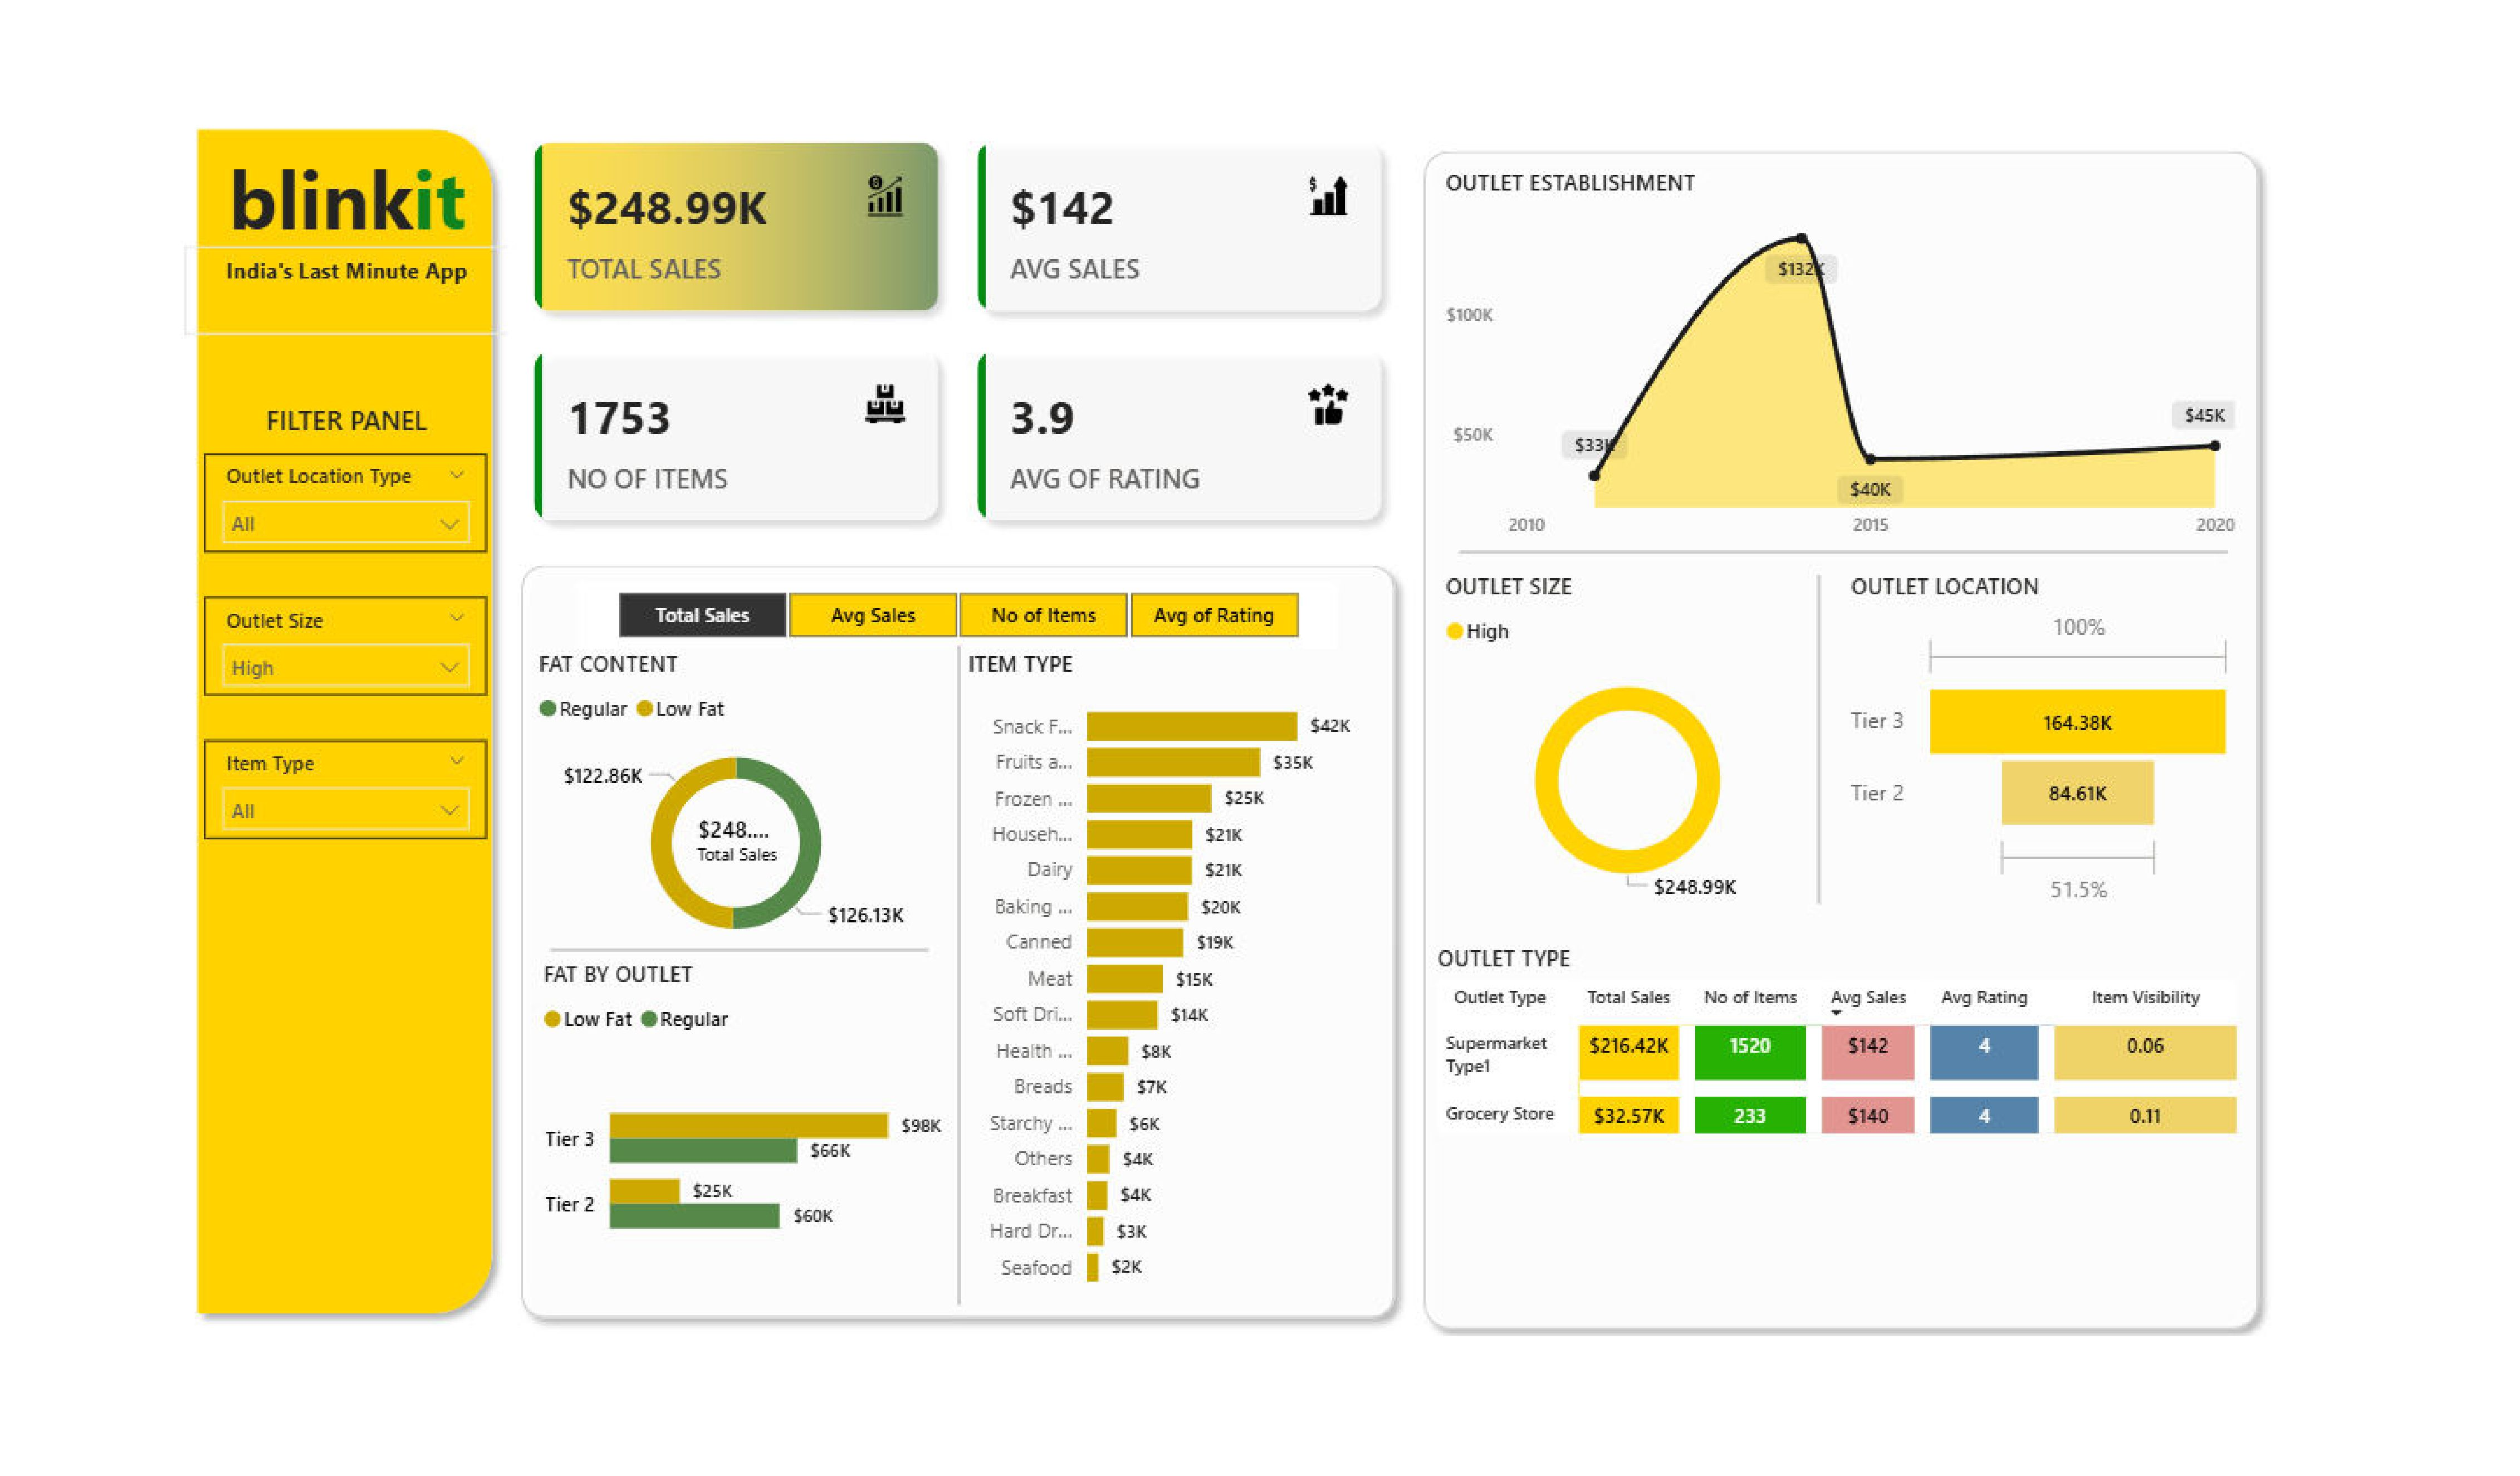

This screenshot's page, from the dashboard's own definition file:
{"tool":"powerbi","page":{"name":"Page 1","canvas":[1400,800],"ordinal":0},"visuals":[{"type":"shape","box":[35.7,52.9,198.6,738.6],"z":0},{"type":"textbox","box":[55.7,65.7,161.4,84.3],"z":1000},{"type":"textbox","box":[37.1,132.9,198.6,52.9],"z":2000},{"type":"cardVisual","fields":{"Data":["BlinkIT Grocery Data.Total Sales","BlinkIT Grocery Data.Avg Sales","BlinkIT Grocery Data.No of Items","BlinkIT Grocery Data.Avg of Rating"]},"box":[234.3,52.9,552.9,265.7],"z":3000},{"type":"shape","box":[234.1,318.2,552.3,475.8],"z":4000},{"type":"donutChart","title":"FAT CONTENT ","fields":{"Y":["BlinkIT Grocery Data.Total Sales"],"Category":["BlinkIT Grocery Data.Item Fat Content"]},"box":[250,377.1,251.4,192.9],"z":5000},{"type":"slicer","fields":{"Values":["Metrics.Metrics"]},"box":[277.7,336.2,465.3,40.5],"z":6000},{"type":"cardVisual","fields":{"Data":["BlinkIT Grocery Data.Total Sales"]},"box":[334.3,450,84.3,85.7],"z":7000},{"type":"clusteredBarChart","title":"FAT BY OUTLET","fields":{"Y":["BlinkIT Grocery Data.Total Sales"],"Category":["BlinkIT Grocery Data.Outlet Location Type"],"Series":["BlinkIT Grocery Data.Item Fat Content"]},"box":[251.4,565.7,260,207.1],"z":8000},{"type":"shape","box":[261.4,544.3,231.4,32.9],"z":9000},{"type":"shape","box":[432.9,375.7,157.1,401.4],"z":10000},{"type":"barChart","title":"ITEM TYPE ","fields":{"Y":["BlinkIT Grocery Data.Total Sales"],"Category":["BlinkIT Grocery Data.Item Type"]},"box":[511.4,377.1,260,400],"z":11000},{"type":"shape","box":[787.1,65.7,528.6,734.3],"z":12000},{"type":"lineChart","title":"OUTLET ESTABLISHMENT","fields":{"Y":["BlinkIT Grocery Data.Total Sales"],"Category":["BlinkIT Grocery Data.Outlet Establishment Year"]},"box":[804.3,84.3,492.9,234.3],"z":13000},{"type":"shape","box":[817.1,130,470,377.1],"z":14000},{"type":"donutChart","title":"OUTLET SIZE","fields":{"Y":["BlinkIT Grocery Data.Total Sales"],"Category":["BlinkIT Grocery Data.Outlet Size"]},"box":[804.3,330,232.9,210],"z":15000},{"type":"shape","box":[971.4,332.9,131.4,200],"z":16000},{"type":"funnel","title":"OUTLET LOCATION ","fields":{"Y":["Sum(BlinkIT Grocery Data.Sales)"],"Category":["BlinkIT Grocery Data.Outlet Location Type"]},"box":[1052.9,330,244.3,210],"z":17000},{"type":"pivotTable","title":"OUTLET TYPE","fields":{"Rows":["BlinkIT Grocery Data.Outlet Type"],"Values":["BlinkIT Grocery Data.Total Sales","BlinkIT Grocery Data.No of Items","BlinkIT Grocery Data.Avg Sales","BlinkIT Grocery Data.Avg of Rating","Avg(BlinkIT Grocery Data.Item Visibility)"]},"box":[804.3,555.7,510,217.1],"z":18000},{"type":"slicer","fields":{"Values":["BlinkIT Grocery Data.Outlet Location Type"]},"box":[50,258.6,172.9,60],"z":19000},{"type":"slicer","fields":{"Values":["BlinkIT Grocery Data.Outlet Size"]},"box":[50,345.7,172.9,60],"z":20000},{"type":"slicer","fields":{"Values":["BlinkIT Grocery Data.Item Type"]},"box":[50,432.9,172.9,60],"z":21000},{"type":"textbox","box":[38.6,222.9,195.7,35.7],"z":21001}]}

Visuals, with their boxes on the page's 1400x800 design canvas (x1, y1, x2, y2). These are canvas units, not pixel positions in the 2520x1476 screenshot, which may show the page scaled, cropped or inside an application window:
shape: [36,53,234,792]
textbox: [56,66,217,150]
textbox: [37,133,236,186]
cardVisual - BlinkIT Grocery Data.Total Sales x BlinkIT Grocery Data.Avg Sales: [234,53,787,319]
shape: [234,318,786,794]
"FAT CONTENT " donutChart: [250,377,501,570]
slicer - Metrics.Metrics: [278,336,743,377]
cardVisual - BlinkIT Grocery Data.Total Sales: [334,450,419,536]
"FAT BY OUTLET" clusteredBarChart: [251,566,511,773]
shape: [261,544,493,577]
shape: [433,376,590,777]
"ITEM TYPE " barChart: [511,377,771,777]
shape: [787,66,1316,800]
"OUTLET ESTABLISHMENT" lineChart: [804,84,1297,319]
shape: [817,130,1287,507]
"OUTLET SIZE" donutChart: [804,330,1037,540]
shape: [971,333,1103,533]
"OUTLET LOCATION " funnel: [1053,330,1297,540]
"OUTLET TYPE" pivotTable: [804,556,1314,773]
slicer - BlinkIT Grocery Data.Outlet Location Type: [50,259,223,319]
slicer - BlinkIT Grocery Data.Outlet Size: [50,346,223,406]
slicer - BlinkIT Grocery Data.Item Type: [50,433,223,493]
textbox: [39,223,234,259]
